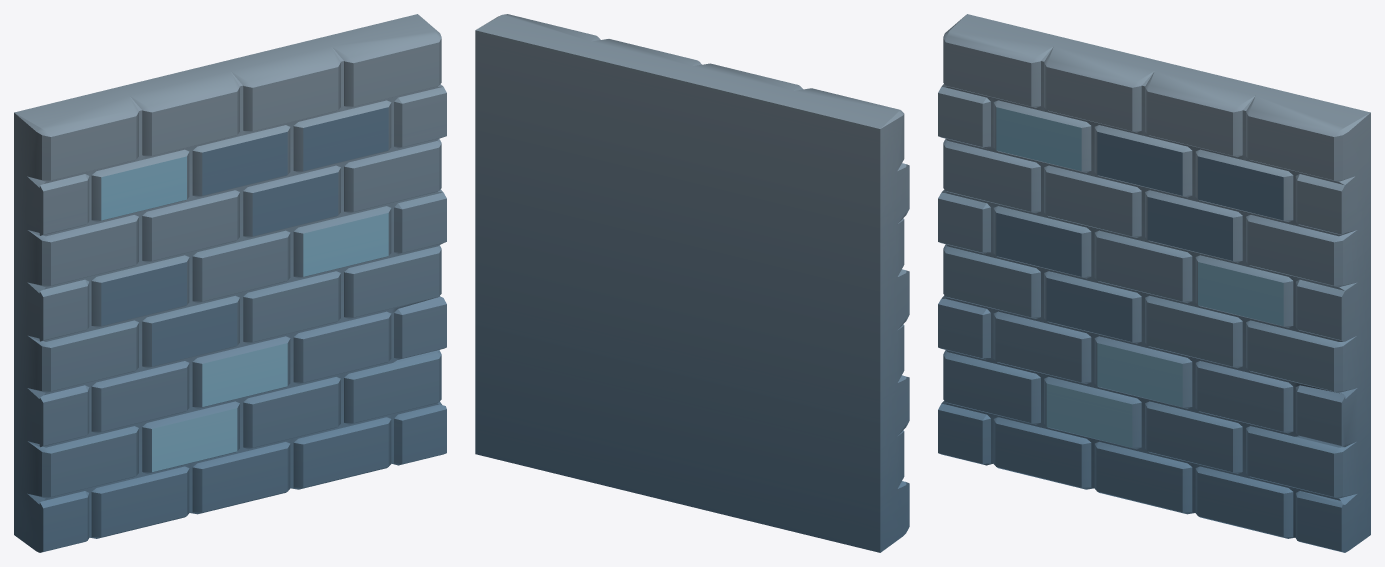
File: Wall_Tile_01.glb
3 renders of one model, left to right at view 1: azimuth 30°, elevation 25°; view 2: azimuth 150°, elevation 25°; view 3: azimuth 330°, elevation 25°, orthographic.
Visible parts, largest first — view 1: Wall_Tile_01; view 2: Wall_Tile_01; view 3: Wall_Tile_01.
Boxes of the visible parts, x1,y1,x2,y2 form: Wall_Tile_01: (14,14,446,552); Wall_Tile_01: (475,14,909,552); Wall_Tile_01: (938,14,1370,552).
Size of the model in its own units: 4.04 by 4.06 by 0.5003.
1 material, 1 textured.
